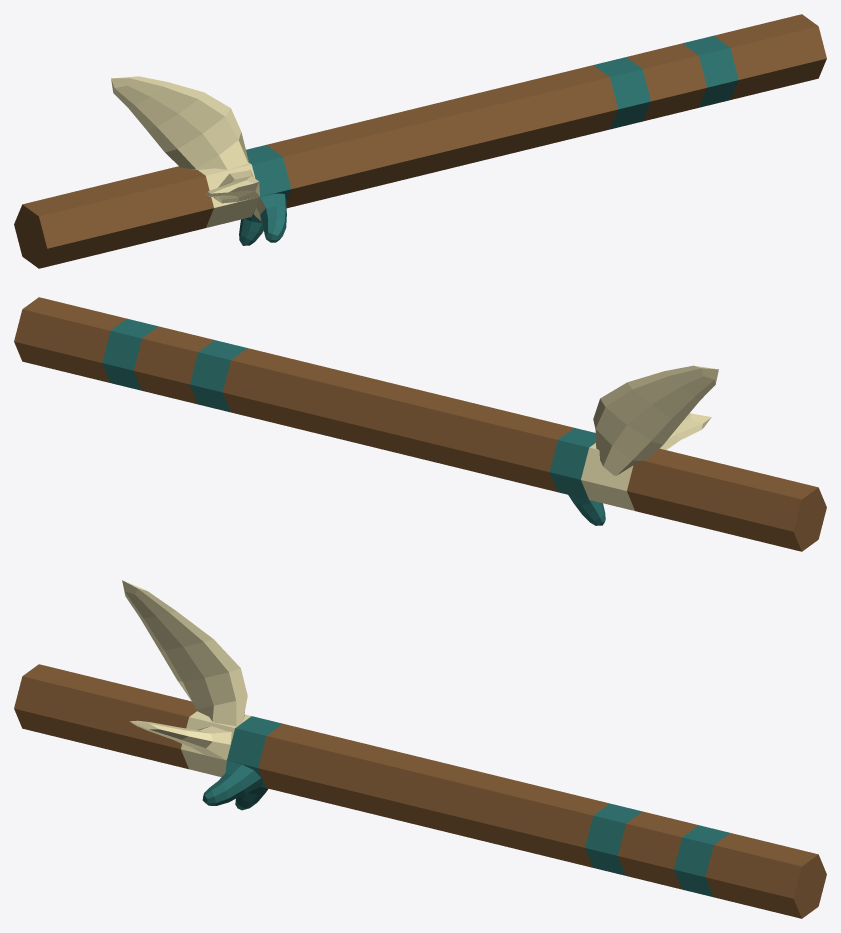
Rendered from Blowpipe.fbx.
3 renders of one model, top to bottom at view 1: azimuth 30°, elevation 25°; view 2: azimuth 150°, elevation 25°; view 3: azimuth 330°, elevation 25°, orthographic.
Parts seen in each view (by area): view 1: Cylinder.001; view 2: Cylinder.001; view 3: Cylinder.001.
Boxes of the visible parts, <box> form: Cylinder.001: <box>14,14,826,268</box>; Cylinder.001: <box>14,297,826,551</box>; Cylinder.001: <box>14,580,826,918</box>.
Size of the model in its own units: 439 by 104 by 55.88.
